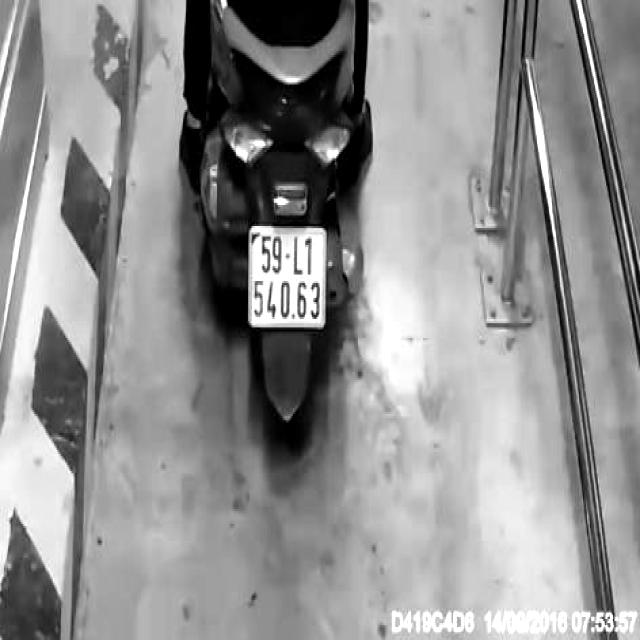license_plate: (241, 215, 341, 339)
